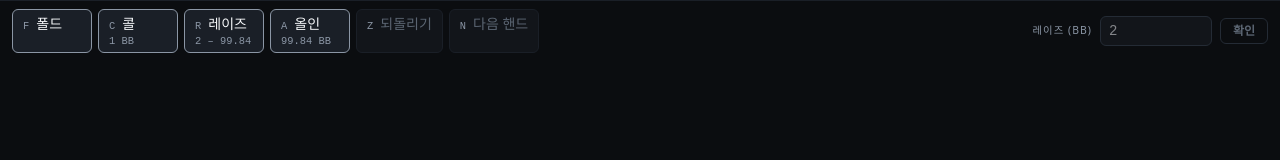
ActionDock — hotkeys survive a non-Latin IME › Escape still closes the raise editor when the IME rewrites `key`
Press ㄹ
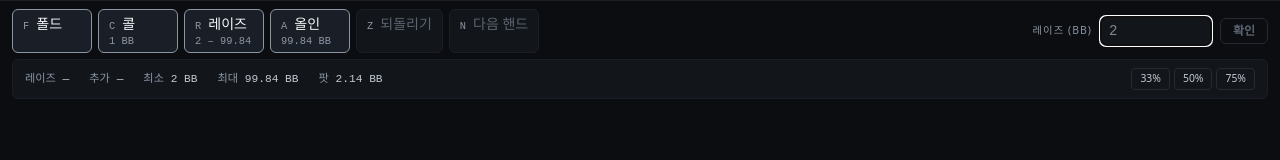
In the field with test id "raise-input": {"x": 1156, "y": 31} [1100,16,1212,46], type "9"
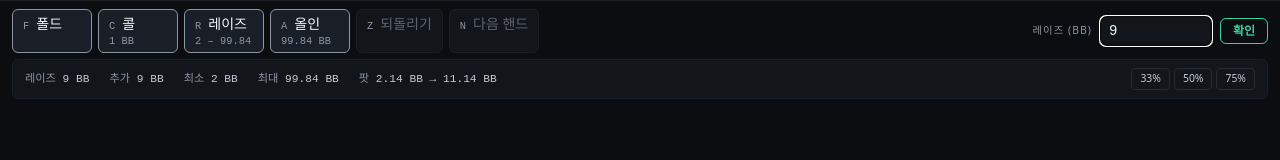
Press Escape
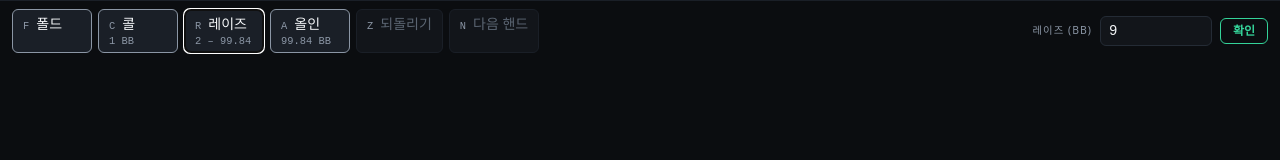
Check: the element with test id "raise-panel" is gone
